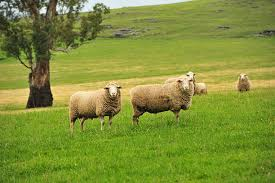sheep: (130, 73, 194, 127), (67, 81, 126, 132), (236, 72, 255, 94)
